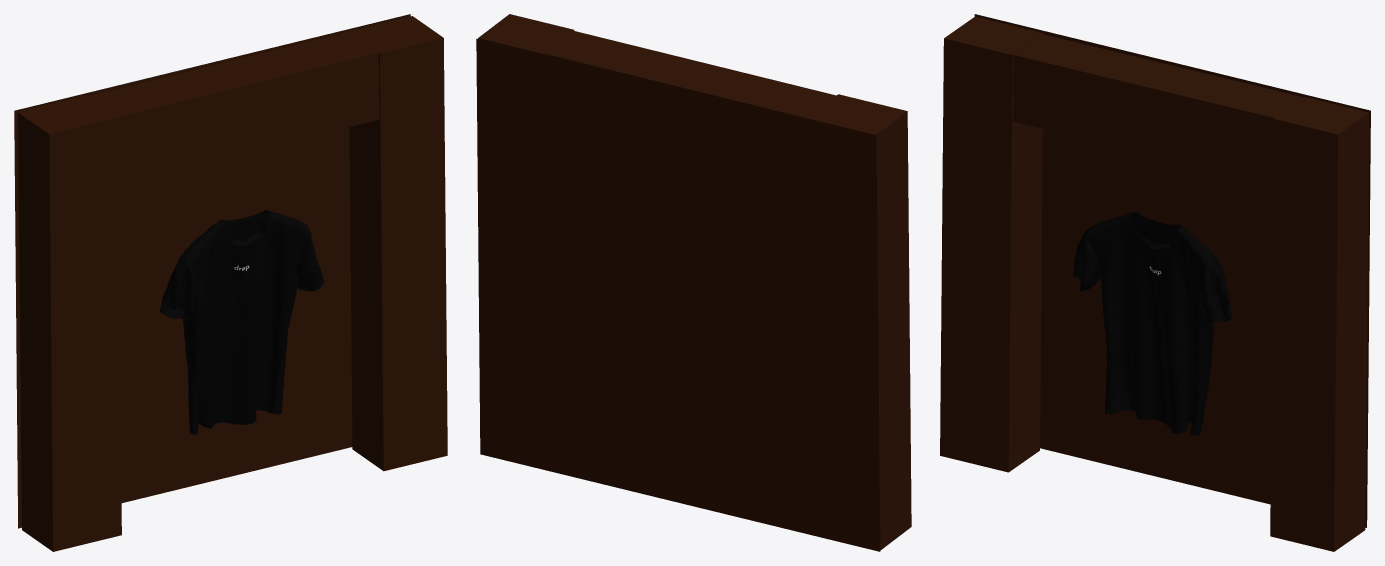
File: T-SHIRT-BLACK-blender.glb
3 views of the same model, side by side, from view 1: azimuth 30°, elevation 25°; view 2: azimuth 150°, elevation 25°; view 3: azimuth 330°, elevation 25° (orthographic).
Visible parts, largest first — view 1: Cubo.009, Cloth.010; view 2: Cubo.009; view 3: Cubo.009, Cloth.010.
Part boxes in pixels (x1=…): Cubo.009: x1=14, y1=14, x2=447, y2=551; Cloth.010: x1=159, y1=210, x2=324, y2=434; Cubo.009: x1=476, y1=14, x2=911, y2=551; Cubo.009: x1=940, y1=14, x2=1370, y2=551; Cloth.010: x1=1073, y1=212, x2=1231, y2=435.
Bounding box in the file's own units: 20.38 × 20.42 × 3.28.
3 materials, 1 textured.
